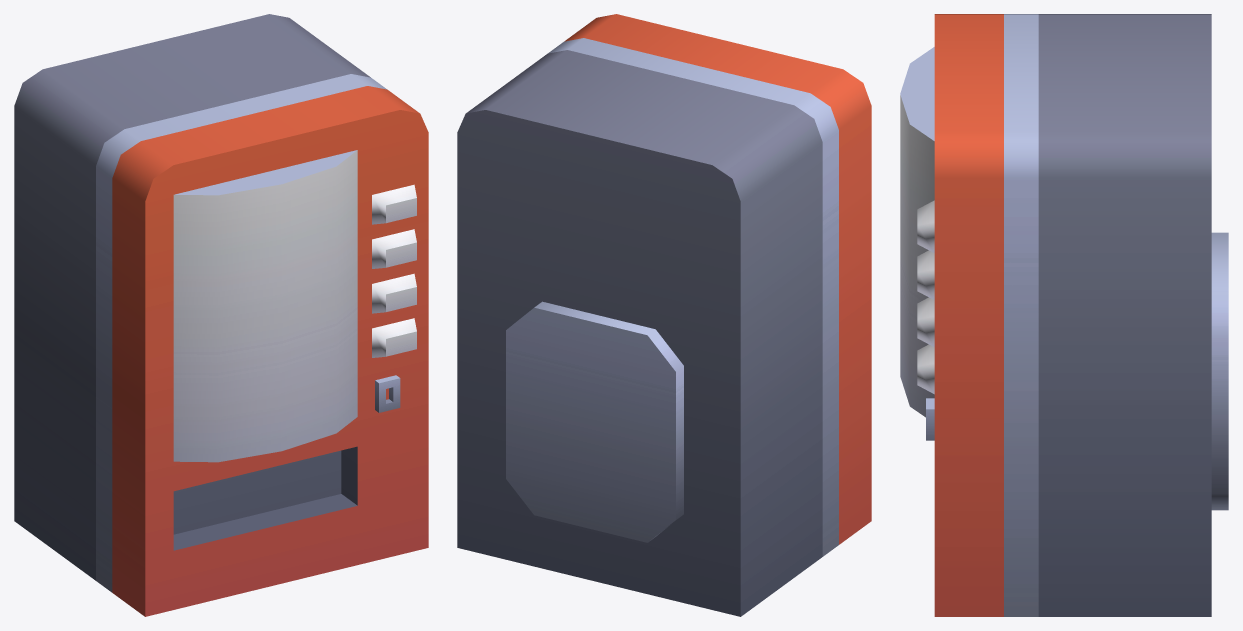
Rendered from vending-machine.glb.
3 renders of one model, left to right at view 1: azimuth 30°, elevation 25°; view 2: azimuth 150°, elevation 25°; view 3: azimuth 270°, elevation 25°, orthographic. The views are drawn at different scales.
Parts seen in each view (by area): view 1: vending-machine; view 2: vending-machine; view 3: vending-machine.
Boxes of the visible parts, x1=… form: vending-machine: x1=14, y1=14, x2=428, y2=616; vending-machine: x1=457, y1=14, x2=871, y2=616; vending-machine: x1=900, y1=14, x2=1228, y2=616.
Size of the model in its own units: 0.5 by 0.75 by 0.475.
1 material, 1 textured.
